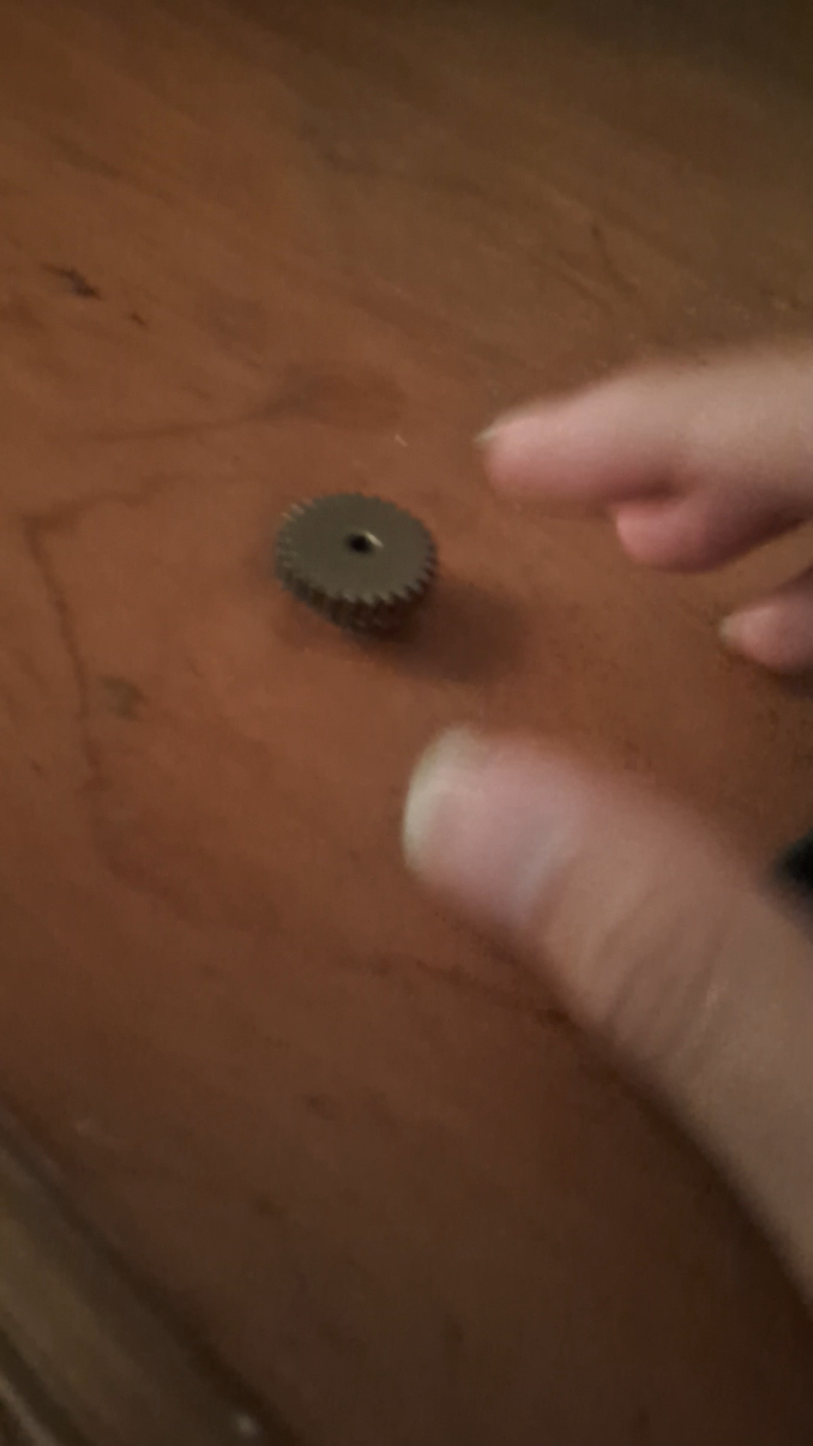spur gear: (274, 493, 437, 636)
